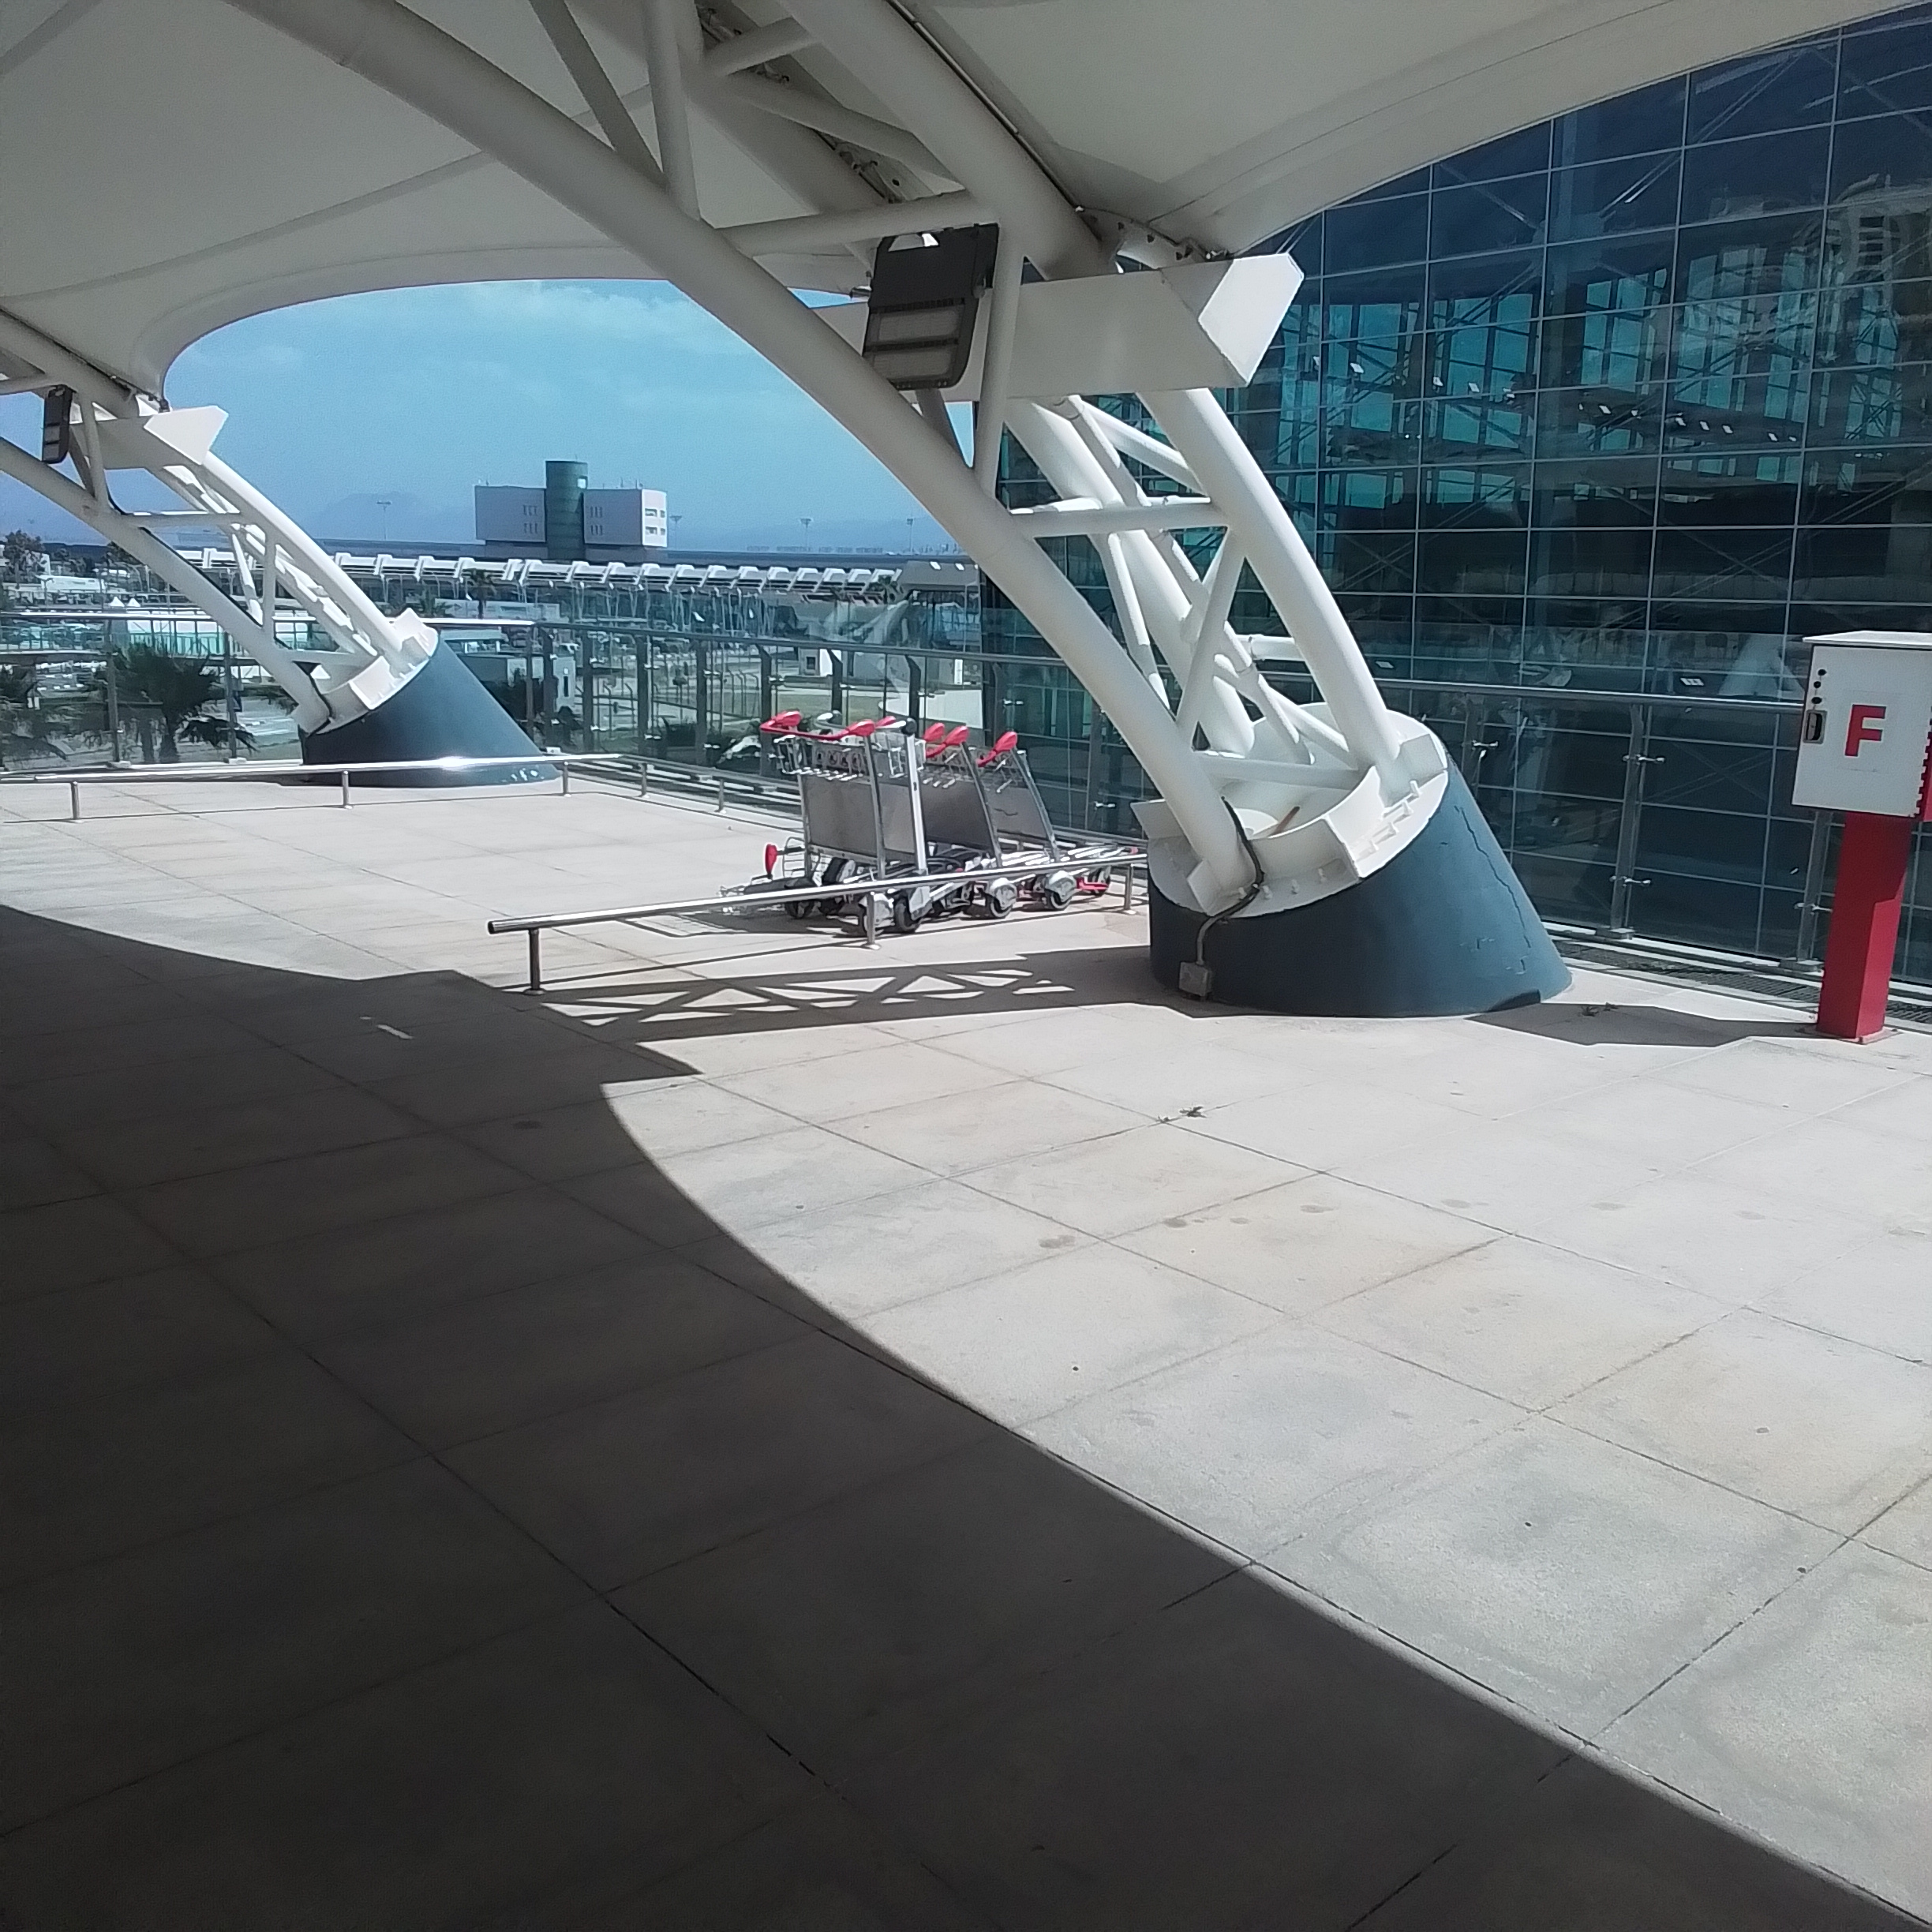airport-trolley: (741, 706, 904, 939), (978, 720, 1131, 909), (842, 706, 966, 916)
